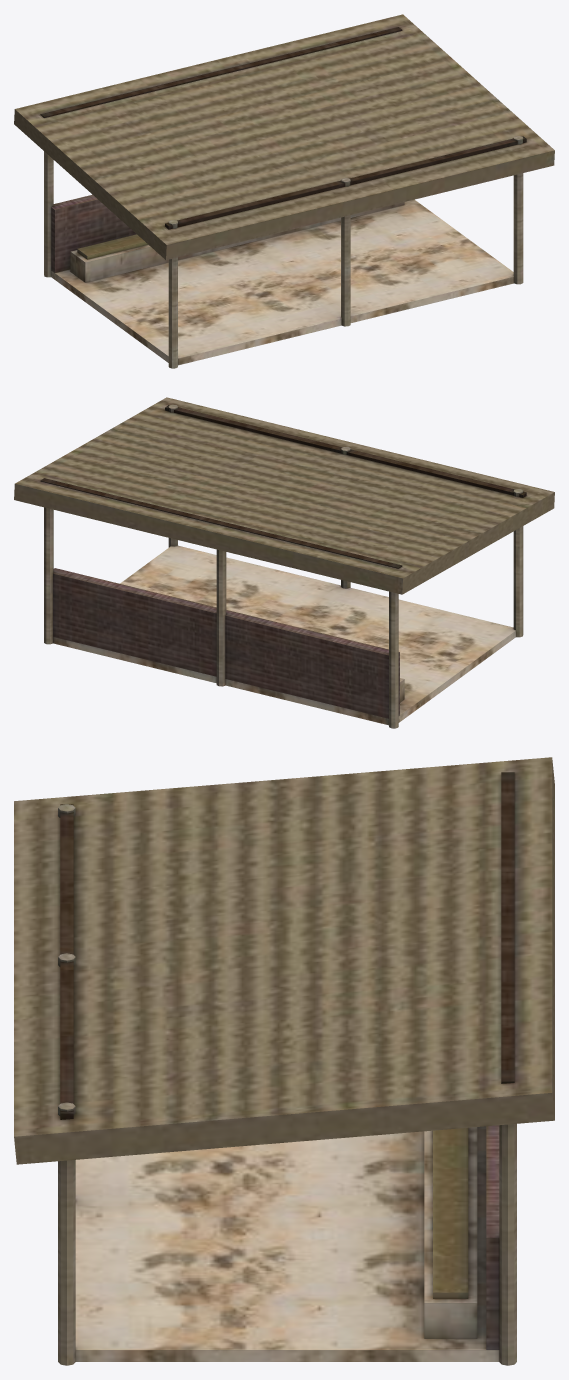
File: cowshed.glb
The picture shows the model from 3 angles, top to bottom: view 1: azimuth 30°, elevation 25°; view 2: azimuth 150°, elevation 25°; view 3: azimuth 270°, elevation 25°; orthographic projection. The views are drawn at different scales.
Parts seen in each view (by area): view 1: cowshed; view 2: cowshed; view 3: cowshed.
Boxes of the visible parts, x1=… form: cowshed: x1=14, y1=14, x2=554, y2=368; cowshed: x1=14, y1=397, x2=554, y2=728; cowshed: x1=14, y1=757, x2=554, y2=1365.
Bounding box in the file's own units: 9 × 3.6 × 6.13.
1 material, 1 textured.
